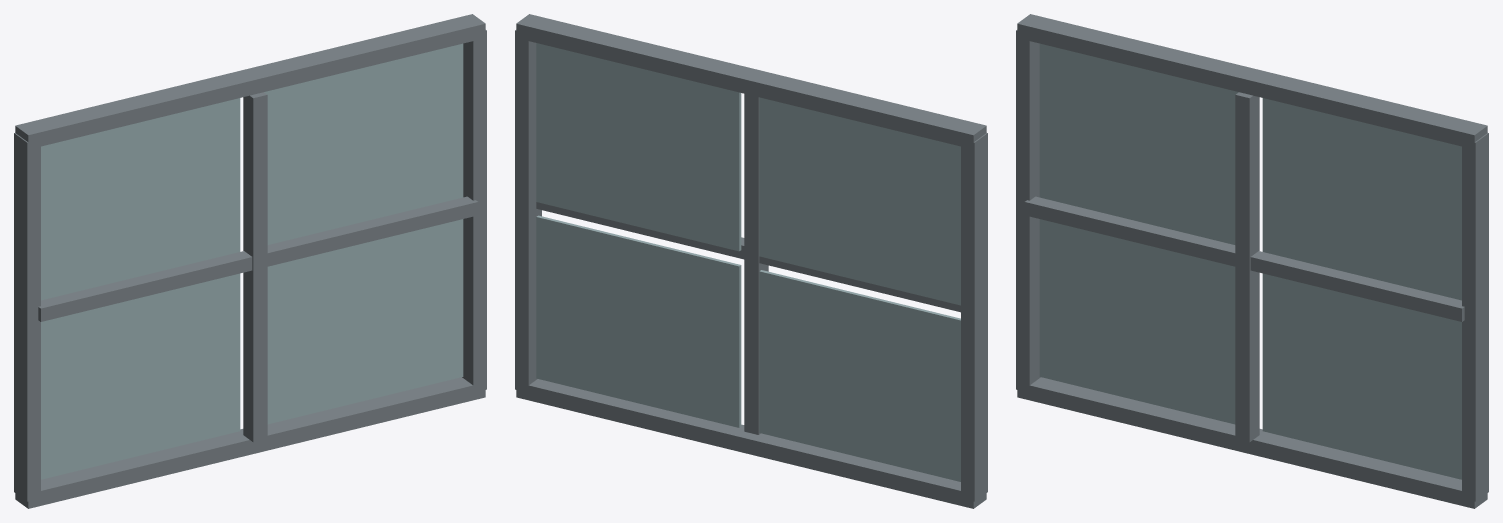
File: COR-003.glb
3 renders of one model, left to right at view 1: azimuth 30°, elevation 25°; view 2: azimuth 150°, elevation 25°; view 3: azimuth 330°, elevation 25°, orthographic.
Parts seen in each view (by area): view 1: 006_Window_glass, 008_Window_glass, 007_Window_glass, 009_Window_glass, 002_Top_window_frame, 003_Bottom_window_frame, 000_Left_window_frame, 005_Horizontal_sash, 004_Middle_sash, 001_Right_window_frame; view 2: 008_Window_glass, 006_Window_glass, 009_Window_glass, 007_Window_glass, 002_Top_window_frame, 003_Bottom_window_frame, 000_Left_window_frame, 001_Right_window_frame, 004_Middle_sash, 005_Horizontal_sash; view 3: 008_Window_glass, 006_Window_glass, 009_Window_glass, 007_Window_glass, 002_Top_window_frame, 003_Bottom_window_frame, 001_Right_window_frame, 005_Horizontal_sash, 004_Middle_sash, 000_Left_window_frame.
Part boxes in pixels (bbox=[...]): 006_Window_glass: bbox=[41, 273, 240, 479]; 008_Window_glass: bbox=[267, 219, 463, 424]; 007_Window_glass: bbox=[41, 98, 240, 300]; 009_Window_glass: bbox=[264, 43, 463, 244]; 002_Top_window_frame: bbox=[15, 14, 485, 148]; 003_Bottom_window_frame: bbox=[15, 377, 485, 508]; 000_Left_window_frame: bbox=[14, 133, 40, 501]; 005_Horizontal_sash: bbox=[38, 196, 478, 321]; 004_Middle_sash: bbox=[243, 92, 267, 442]; 001_Right_window_frame: bbox=[462, 30, 486, 391]; 008_Window_glass: bbox=[536, 215, 741, 427]; 006_Window_glass: bbox=[759, 270, 960, 481]; 009_Window_glass: bbox=[536, 43, 741, 251]; 007_Window_glass: bbox=[759, 97, 960, 305]; 002_Top_window_frame: bbox=[516, 14, 986, 149]; 003_Bottom_window_frame: bbox=[516, 379, 986, 508]; 000_Left_window_frame: bbox=[961, 133, 987, 501]; 001_Right_window_frame: bbox=[515, 30, 541, 392]; 004_Middle_sash: bbox=[744, 93, 768, 434]; 005_Horizontal_sash: bbox=[536, 202, 960, 312]; 008_Window_glass: bbox=[1262, 273, 1461, 479]; 006_Window_glass: bbox=[1039, 219, 1235, 424]; 009_Window_glass: bbox=[1262, 98, 1461, 300]; 007_Window_glass: bbox=[1039, 43, 1238, 244]; 002_Top_window_frame: bbox=[1017, 14, 1487, 149]; 003_Bottom_window_frame: bbox=[1017, 377, 1487, 508]; 001_Right_window_frame: bbox=[1462, 133, 1488, 501]; 005_Horizontal_sash: bbox=[1024, 196, 1464, 321]; 004_Middle_sash: bbox=[1235, 92, 1259, 442]; 000_Left_window_frame: bbox=[1016, 30, 1040, 392].
Size of the model in its own units: 1.61 by 1.25 by 0.1.
